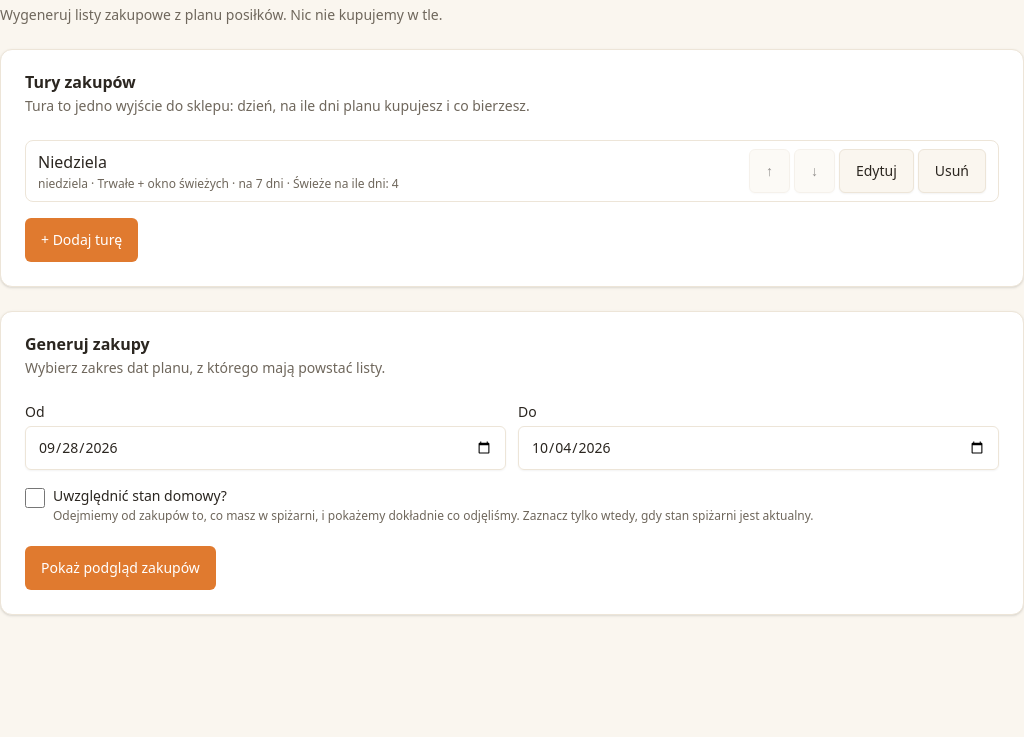
Scenario: ZakupyPage › bloker dezaktywuje „Utwórz listy" i mówi dlaczego (AC 6)
Click the button with test id "zakupy-generate": (120, 568) top-left (25, 546), bottom-right (216, 590)
(page scrolled)
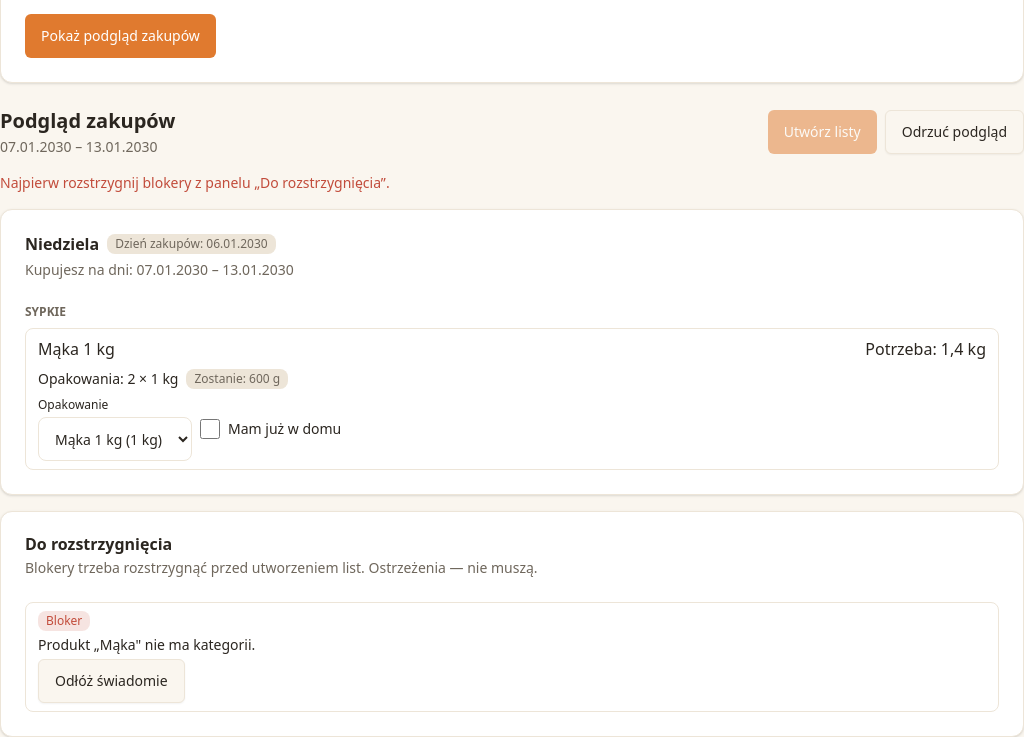
Check: the button with test id "preview-finalize" is disabled, box top-left (768, 110), bottom-right (877, 154)
Check: the message with test id "preview-blocked" shows "rozstrzygnij", box top-left (0, 173), bottom-right (390, 192)
Check: the list item with test id "preview-issue-product_without_category" shows "Bloker", box top-left (46, 612), bottom-right (82, 629)
